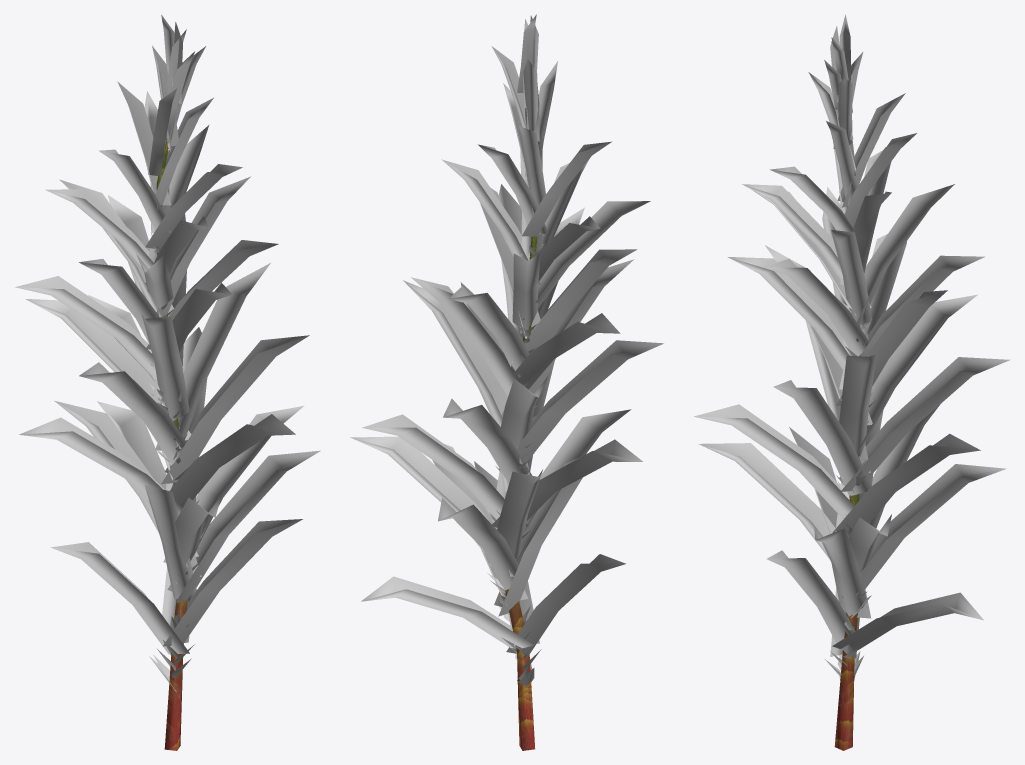
File: Plant5_1_L2.fbx
3 renders of one model, left to right at view 1: azimuth 30°, elevation 25°; view 2: azimuth 150°, elevation 25°; view 3: azimuth 270°, elevation 25°, orthographic.
Parts seen in each view (by area): view 1: polySurface12; view 2: polySurface12; view 3: polySurface12.
Part boxes in pixels (x1,y1,x2,y2): polySurface12: (15,14,320,750); polySurface12: (350,14,663,750); polySurface12: (694,14,1010,750).
Bounding box in the file's own units: 247 × 599 × 237.
